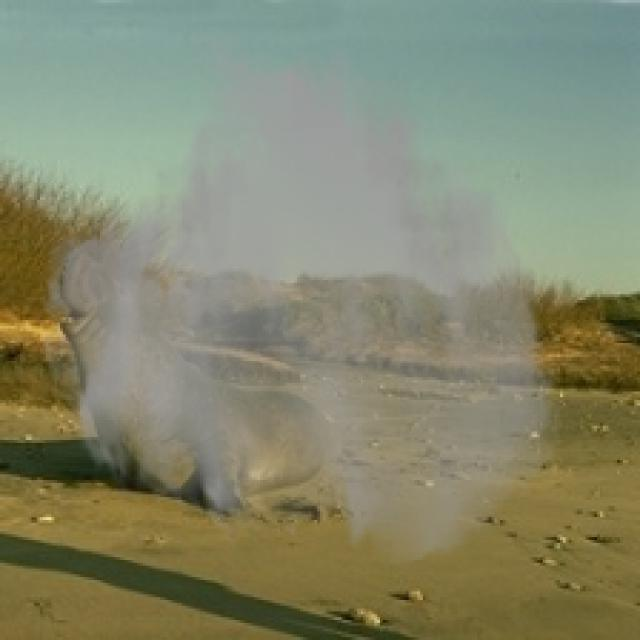smoke: (37, 29, 566, 568)
